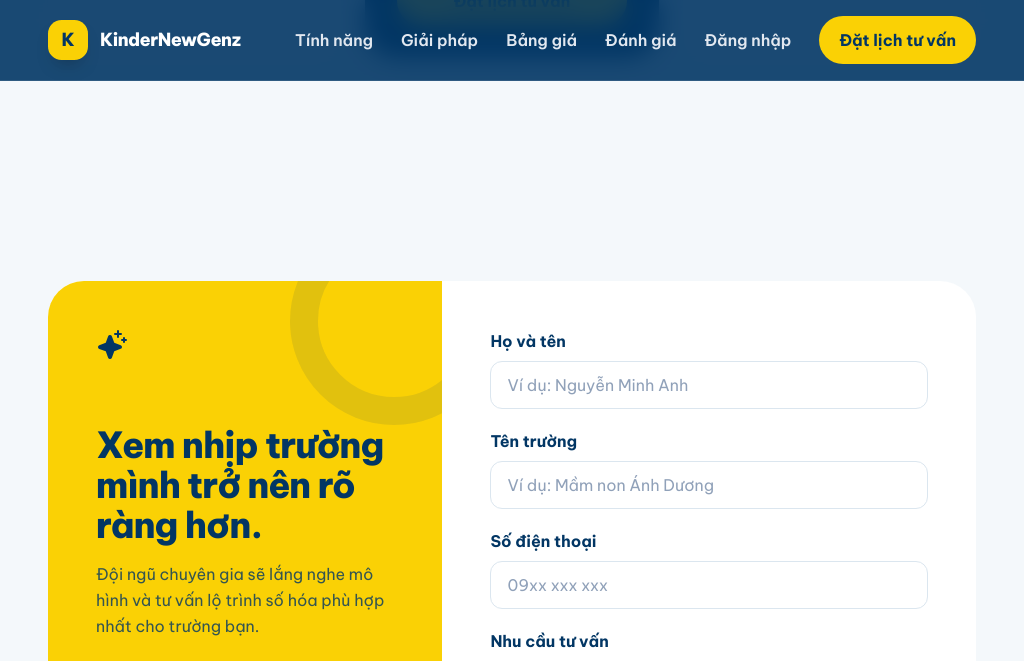
Test case: KinderNewGenz landing page › handles form submission error when network or test error number provided
(page scrolled)
Type "Trần Văn Bình" into the field labelled "Họ và tên" at coordinates (709, 384), box [490,360,928,408]
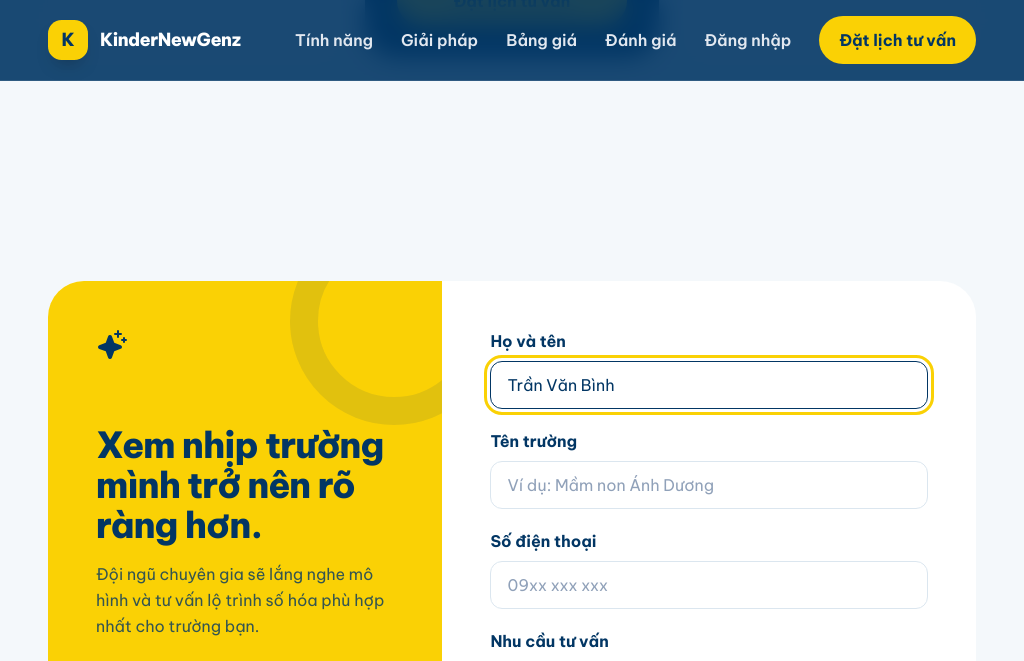
Type "Mầm non Tuổi Thơ" into the field labelled "Tên trường" at coordinates (709, 484), box [490,460,928,508]
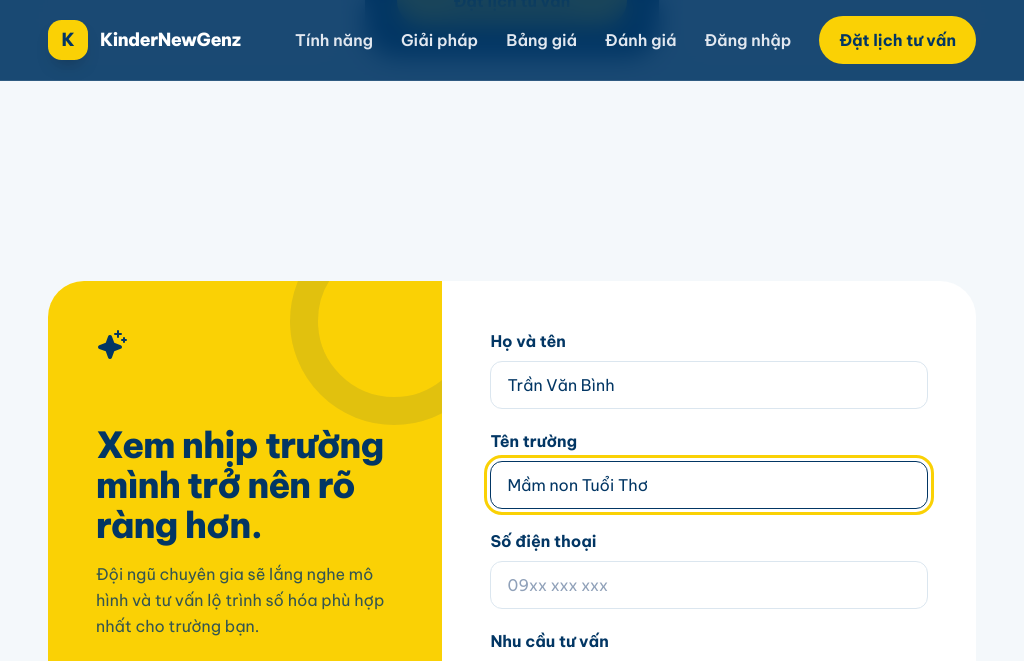
Type "0900000000" into the field labelled "Số điện thoại" at coordinates (709, 584), box [490,560,928,608]
(page scrolled)
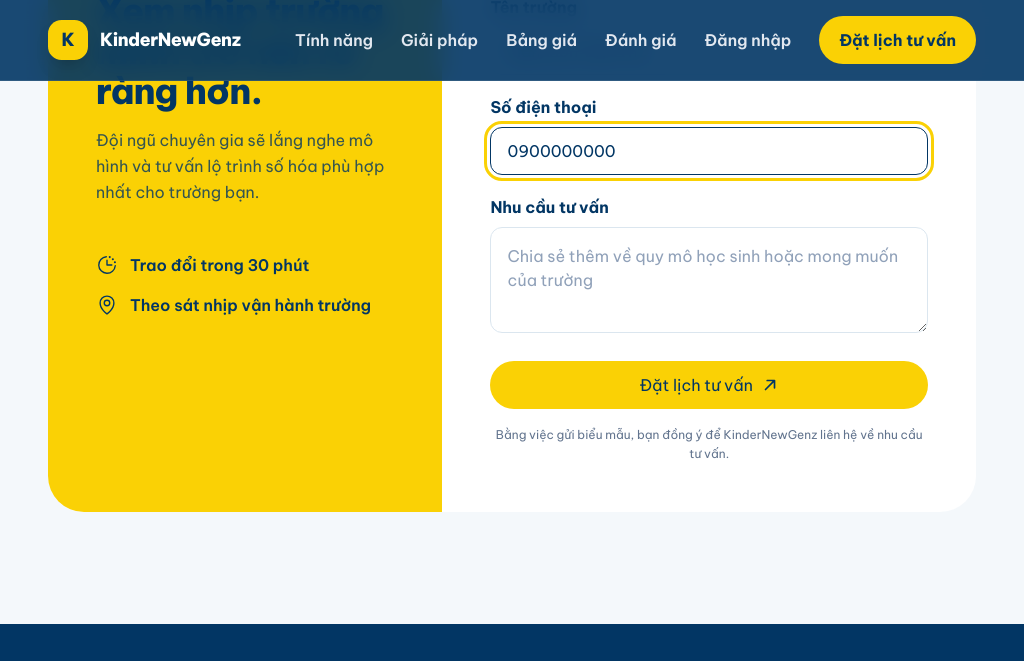
Click the button "Đặt lịch tư vấn" at coordinates (709, 384), box [490,360,928,408]
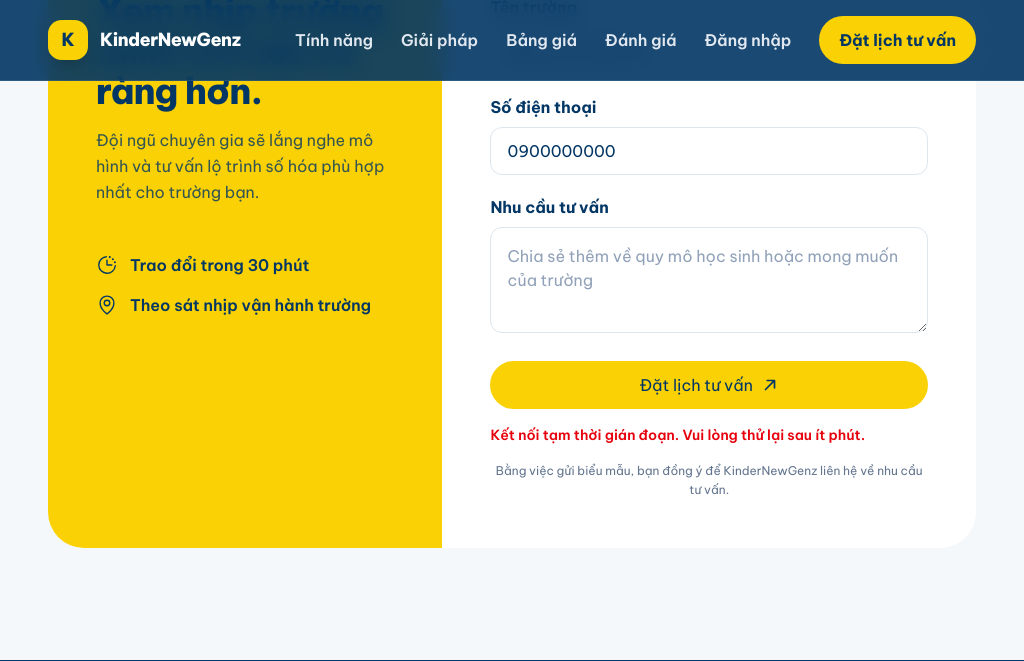
Now the message shows "Kết nối tạm thời gián đoạn", box [490,426,865,444]
